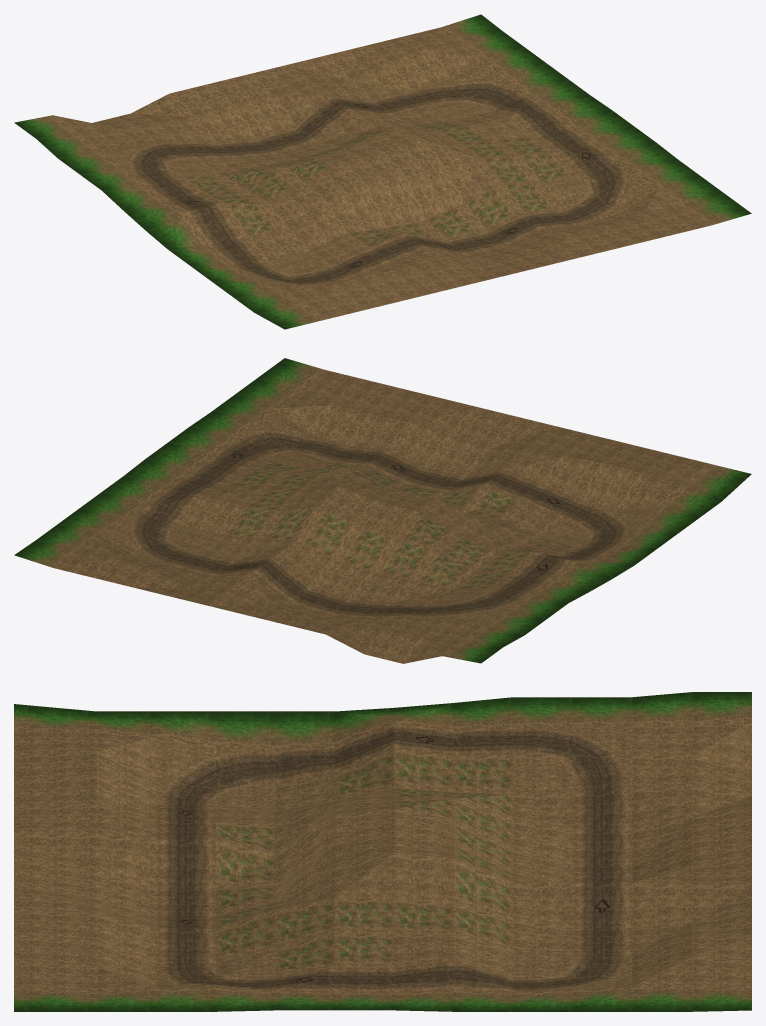
Rendered from dirt.glb.
3 views of the same model, one above another, from view 1: azimuth 30°, elevation 25°; view 2: azimuth 150°, elevation 25°; view 3: azimuth 270°, elevation 25° (orthographic). The views are drawn at different scales.
Parts seen in each view (by area): view 1: dirt; view 2: dirt; view 3: dirt.
Boxes of the visible parts, left/top/right/bottom form: dirt: left=14, top=14, right=751, bottom=329; dirt: left=14, top=358, right=751, bottom=663; dirt: left=14, top=692, right=751, bottom=1011.
Size of the model in its own units: 10590 by 1013 by 10634.
Materials: 8 (8 with a texture image).
